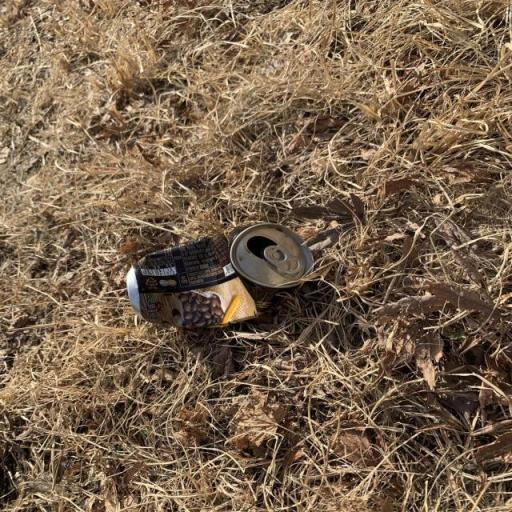metal: (88, 216, 374, 346)
